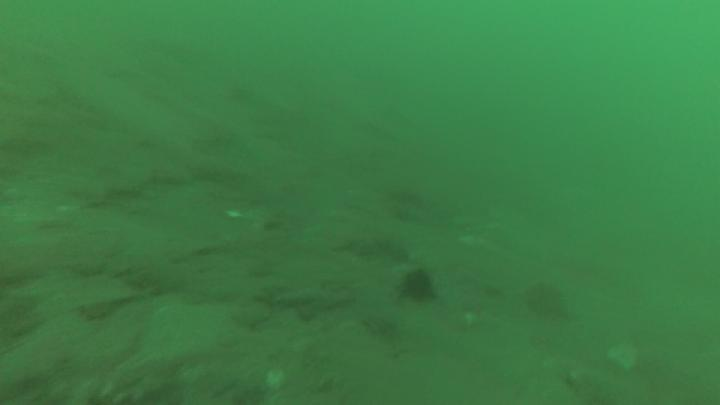echinus: (402, 270, 433, 303)
starfish: (525, 280, 566, 318)
